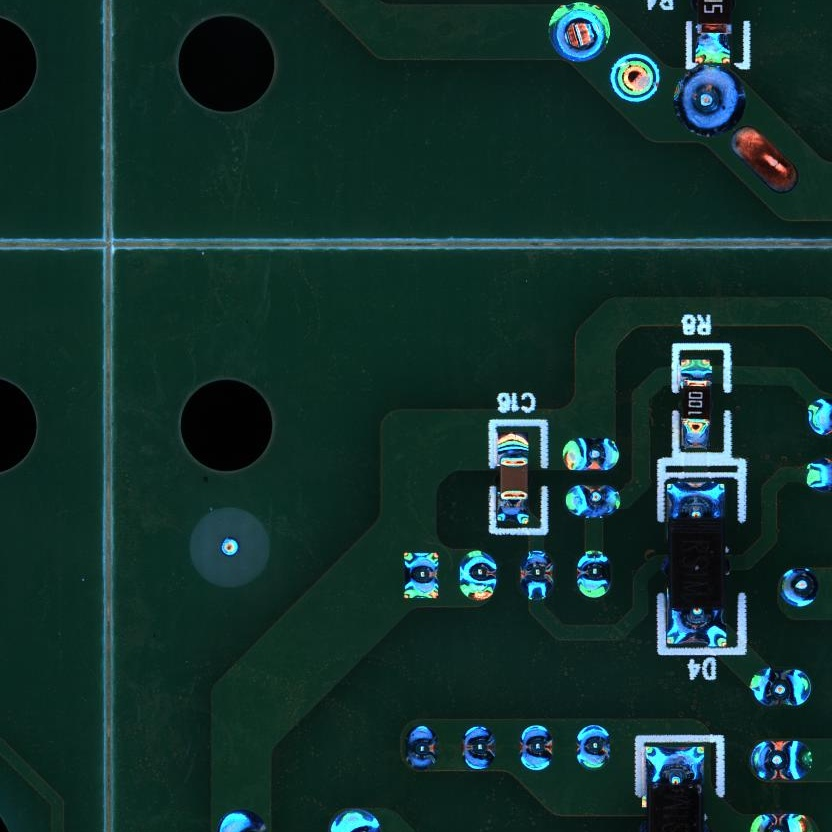spot: (670, 60, 748, 139), (545, 1, 611, 64), (748, 737, 817, 784), (608, 52, 663, 103), (749, 667, 814, 710), (561, 435, 622, 475), (456, 549, 499, 603), (515, 549, 558, 603), (563, 483, 623, 520), (402, 549, 441, 602), (572, 724, 613, 773), (575, 549, 614, 600), (461, 724, 500, 773), (778, 565, 820, 610), (517, 723, 554, 774), (402, 724, 437, 770), (325, 808, 383, 832), (750, 812, 813, 832)
